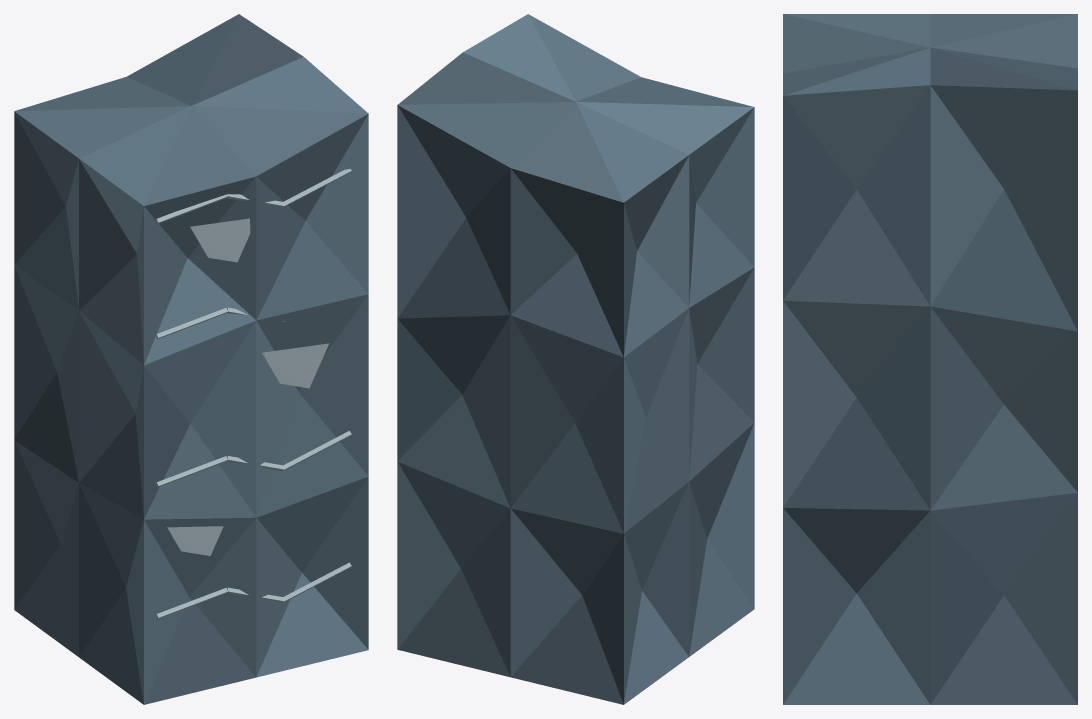
File: frost_wall_b.glb
The picture shows the model from 3 angles, left to right: view 1: azimuth 30°, elevation 25°; view 2: azimuth 150°, elevation 25°; view 3: azimuth 270°, elevation 25°; orthographic projection. The views are drawn at different scales.
Parts seen in each view (by area): view 1: geometry; view 2: geometry; view 3: geometry.
Boxes of the visible parts, box(x1,y1,x2,y2) form: geometry: box(14, 14, 368, 704); geometry: box(397, 14, 754, 704); geometry: box(783, 14, 1077, 704).
Size of the model in its own units: 1 by 2.32 by 1.
